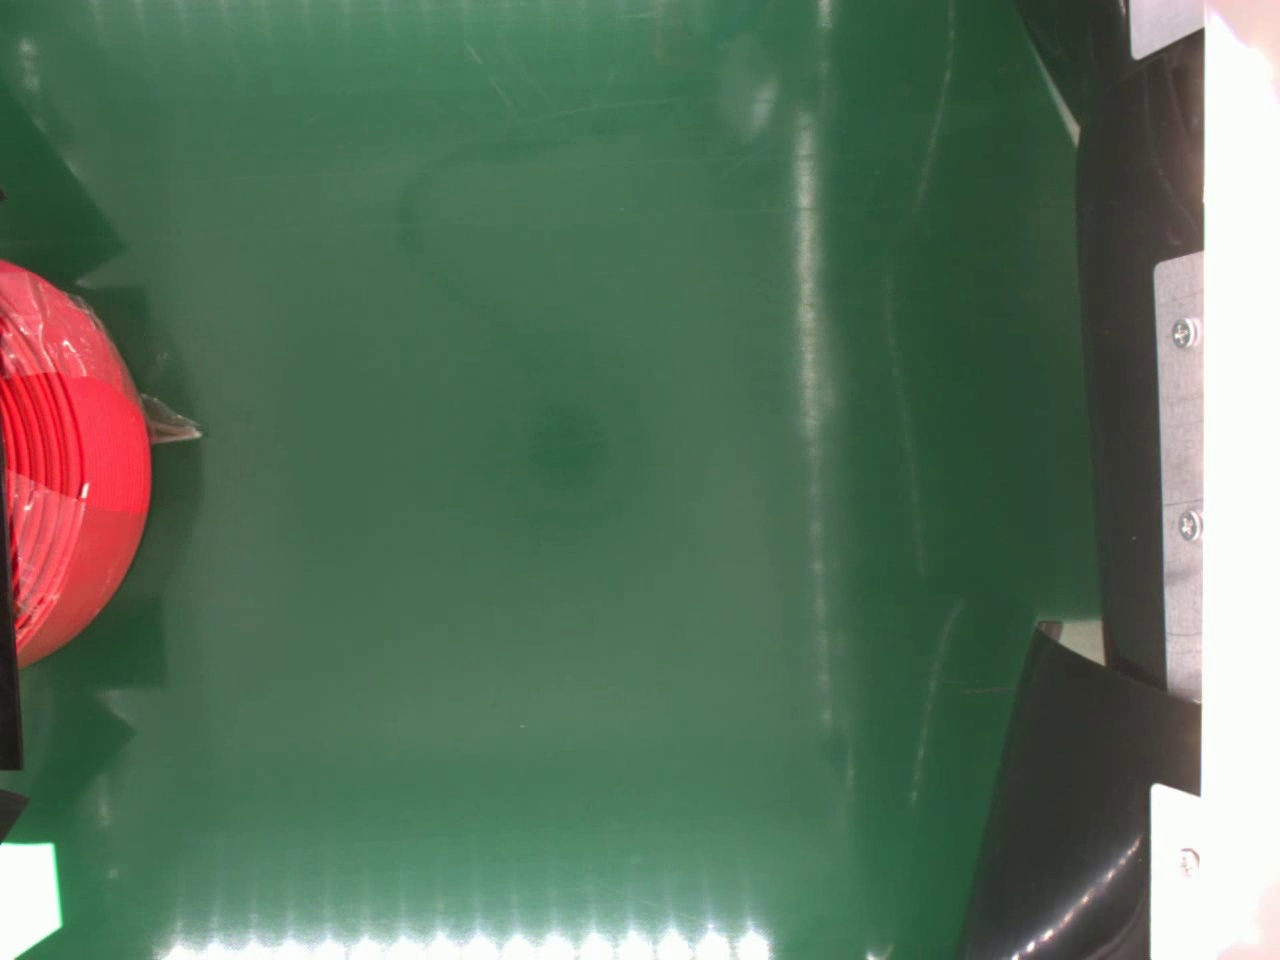red: (0, 253, 156, 665)
